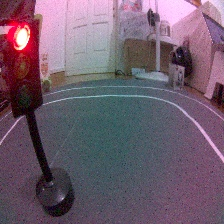red: (1, 12, 75, 217)
